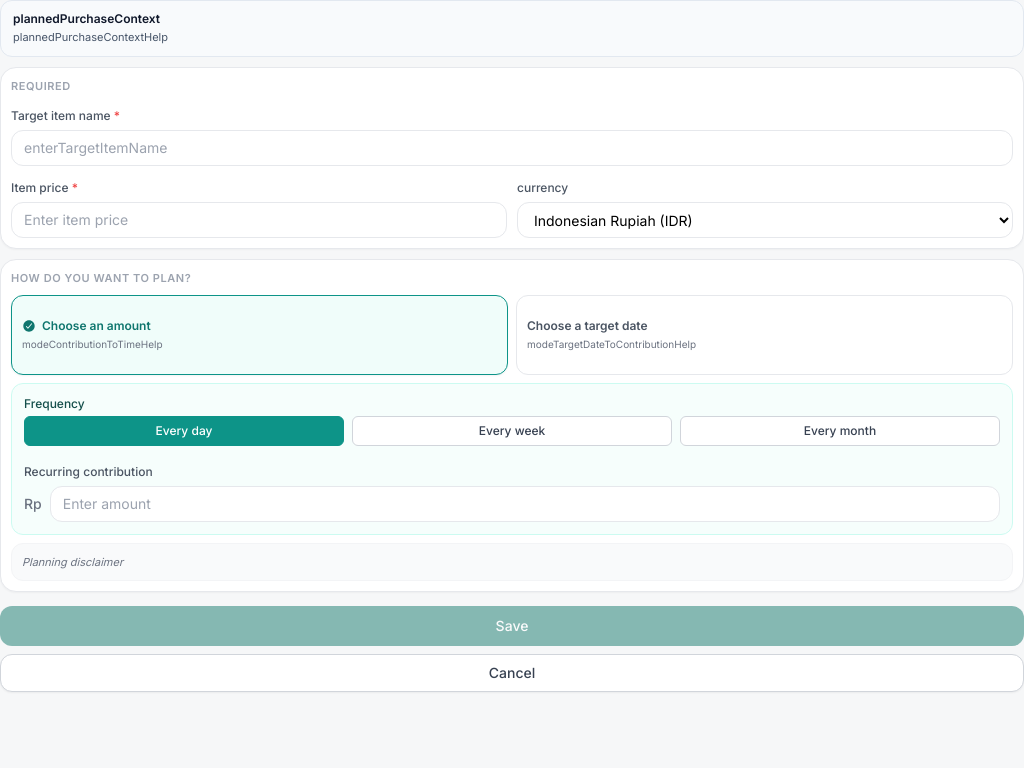
it: PlannedPurchaseForm › disables save button when required fields are missing and enables when valid
Expected: the button "Save" is disabled, [0,606,1023,646]
Type "Headphones" into the field labelled "Target item name *" at (512, 148), box [11,130,1013,166]
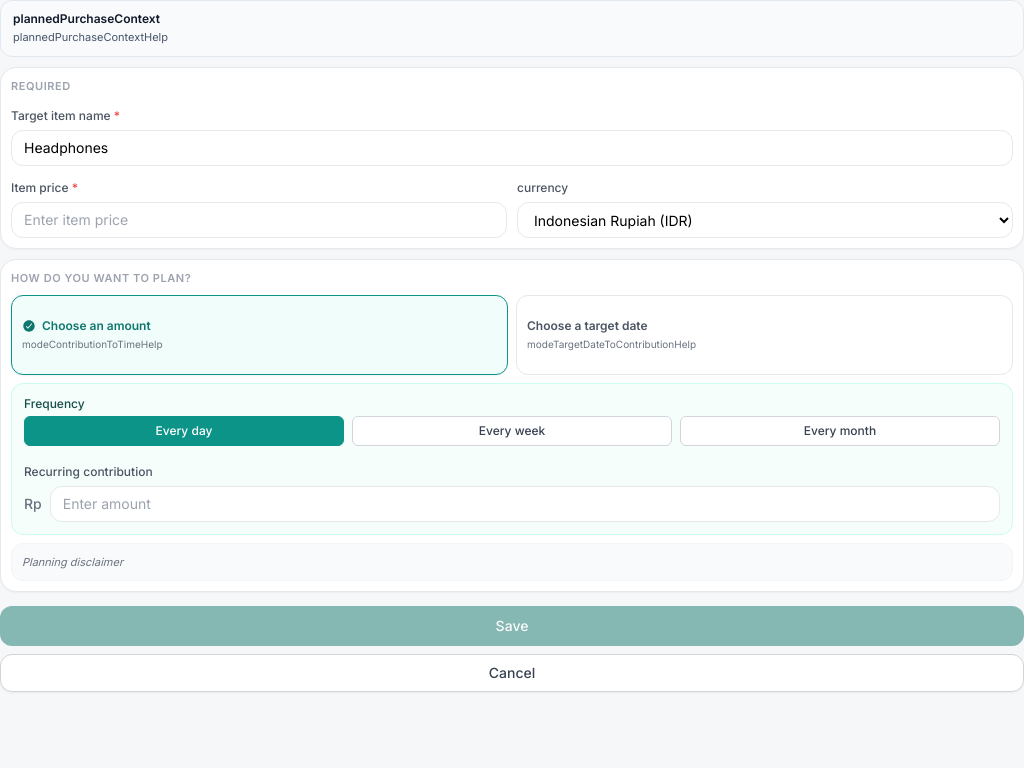
Expected: the button "Save" is disabled, [0,606,1023,646]
Type "1500000" into the field labelled "Item price *" at (259, 220), box [11,202,507,238]
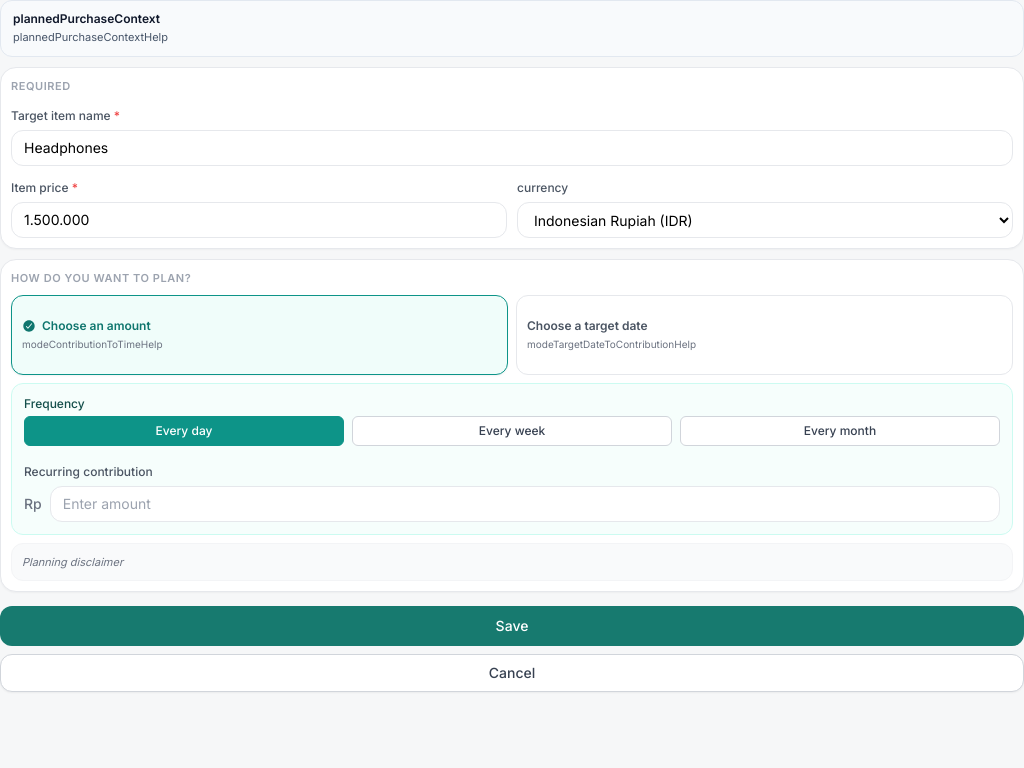
Now the button "Save" is enabled, box [0,606,1023,646]
